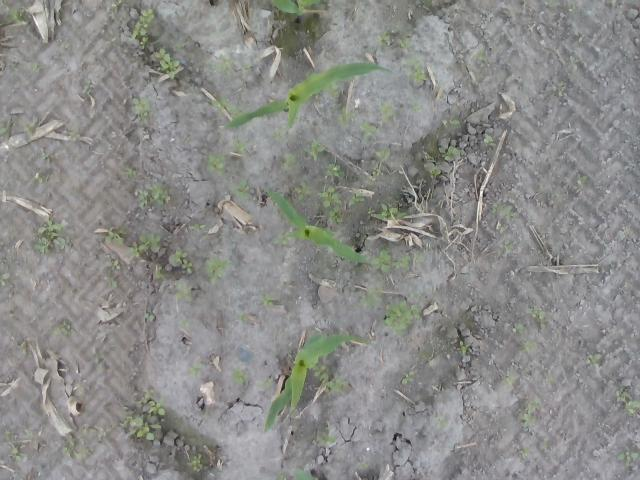Maize: (226, 61, 394, 133), (264, 332, 375, 432), (260, 184, 376, 262), (271, 0, 322, 24), (292, 467, 316, 480)
Weeds: (379, 300, 422, 336), (120, 410, 162, 442), (62, 426, 97, 462), (33, 218, 66, 253), (130, 7, 154, 49), (134, 388, 167, 415), (154, 48, 180, 80), (129, 233, 160, 259), (138, 183, 170, 207), (402, 53, 427, 83), (227, 176, 254, 202), (358, 282, 384, 308), (615, 387, 640, 414), (205, 256, 229, 284), (368, 204, 408, 220), (526, 304, 552, 328), (207, 54, 234, 76), (206, 152, 228, 178), (324, 372, 350, 393), (522, 398, 540, 428), (170, 250, 192, 274), (210, 96, 236, 116), (319, 186, 342, 208), (4, 6, 29, 26), (491, 202, 518, 220), (132, 97, 150, 124), (305, 139, 326, 160), (377, 100, 396, 123), (372, 249, 391, 272), (50, 319, 71, 338), (316, 426, 337, 444), (438, 145, 461, 161), (618, 448, 638, 466), (232, 368, 251, 386), (174, 282, 192, 301), (338, 107, 355, 127), (19, 118, 37, 136), (105, 227, 124, 244), (366, 163, 380, 185), (360, 122, 378, 139), (392, 254, 411, 270), (0, 118, 13, 140), (296, 182, 312, 199), (326, 164, 345, 178), (311, 364, 330, 378), (433, 414, 449, 430), (186, 454, 202, 470), (32, 173, 54, 184), (585, 354, 602, 368), (229, 138, 246, 152), (329, 206, 342, 224), (348, 192, 364, 206), (376, 148, 392, 162), (230, 102, 244, 118), (274, 231, 290, 245), (94, 351, 104, 373), (188, 363, 202, 378), (8, 446, 22, 461), (520, 341, 536, 354), (428, 166, 442, 180), (552, 81, 565, 96), (473, 48, 488, 61), (376, 31, 389, 46), (324, 83, 339, 96), (240, 60, 253, 75), (284, 154, 296, 170), (396, 37, 412, 49), (105, 258, 121, 270), (457, 341, 471, 354), (401, 371, 414, 384), (260, 294, 274, 306), (576, 173, 588, 186), (68, 130, 80, 143), (507, 374, 518, 388), (512, 324, 526, 335), (17, 342, 28, 356), (154, 266, 165, 280), (569, 55, 579, 70), (542, 0, 560, 8), (259, 377, 273, 387), (82, 80, 92, 94), (442, 118, 461, 125), (504, 241, 514, 254), (0, 272, 10, 285), (122, 168, 138, 176), (177, 318, 191, 327), (410, 290, 422, 300), (484, 134, 494, 146), (106, 277, 118, 287), (423, 154, 436, 163), (520, 447, 530, 458), (496, 222, 507, 232), (412, 254, 423, 264), (569, 1, 577, 14), (143, 313, 156, 321), (24, 428, 34, 438), (189, 224, 205, 230), (541, 437, 548, 450), (272, 130, 281, 140), (276, 472, 287, 480), (111, 0, 123, 7), (237, 312, 245, 322), (356, 462, 369, 468), (175, 42, 188, 48), (106, 37, 117, 44), (412, 102, 421, 110), (555, 190, 564, 198), (60, 43, 68, 52), (30, 62, 39, 70), (546, 377, 554, 385), (76, 384, 83, 392), (41, 152, 48, 160), (538, 182, 544, 191), (624, 282, 634, 287), (622, 226, 630, 232), (202, 412, 208, 419), (305, 71, 312, 77)
